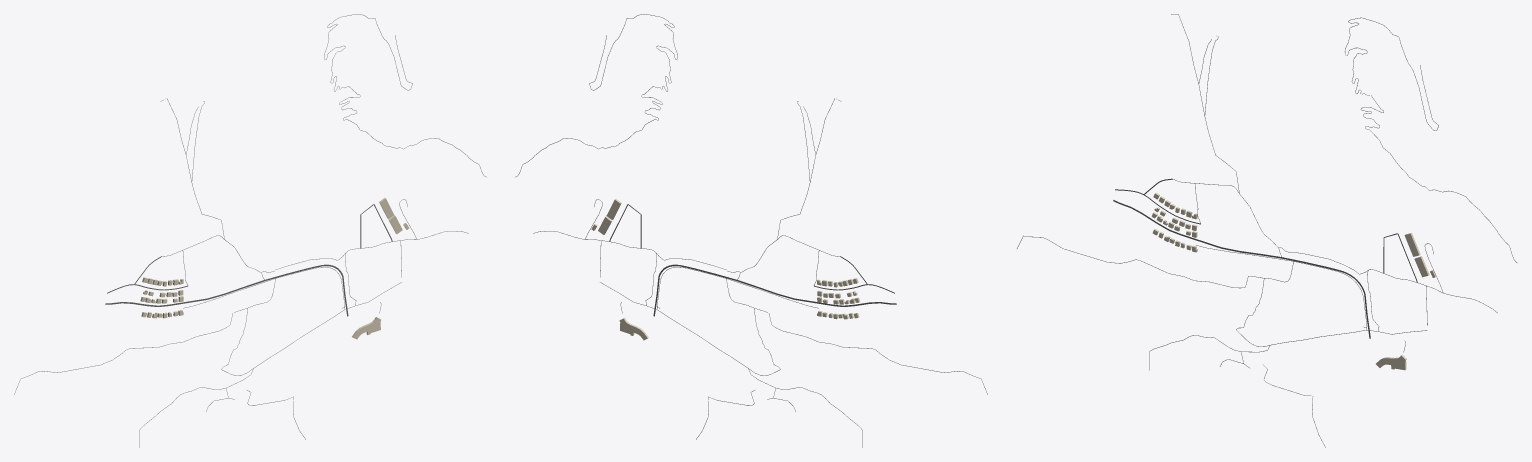
The model's file is historic-palestine-09_23_3510_3178.glb.
3 views of the same model, side by side, from view 1: azimuth 30°, elevation 25°; view 2: azimuth 150°, elevation 25°; view 3: azimuth 330°, elevation 25° (orthographic). The views are drawn at different scales.
Parts seen in each view (by area): view 1: Road .022; view 2: Road .022; view 3: Road .022.
Boxes of the visible parts, left/top/right/bottom form: Road .022: left=324, top=14, right=486, bottom=177; Road .022: left=515, top=14, right=677, bottom=177; Road .022: left=1344, top=17, right=1516, bottom=262.
Bounding box in the file's own units: 1698 × 1422 × 8.7.
